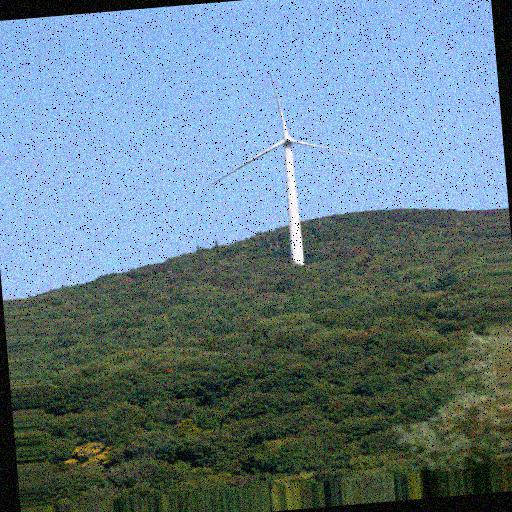wind turbine: (207, 69, 390, 257)
